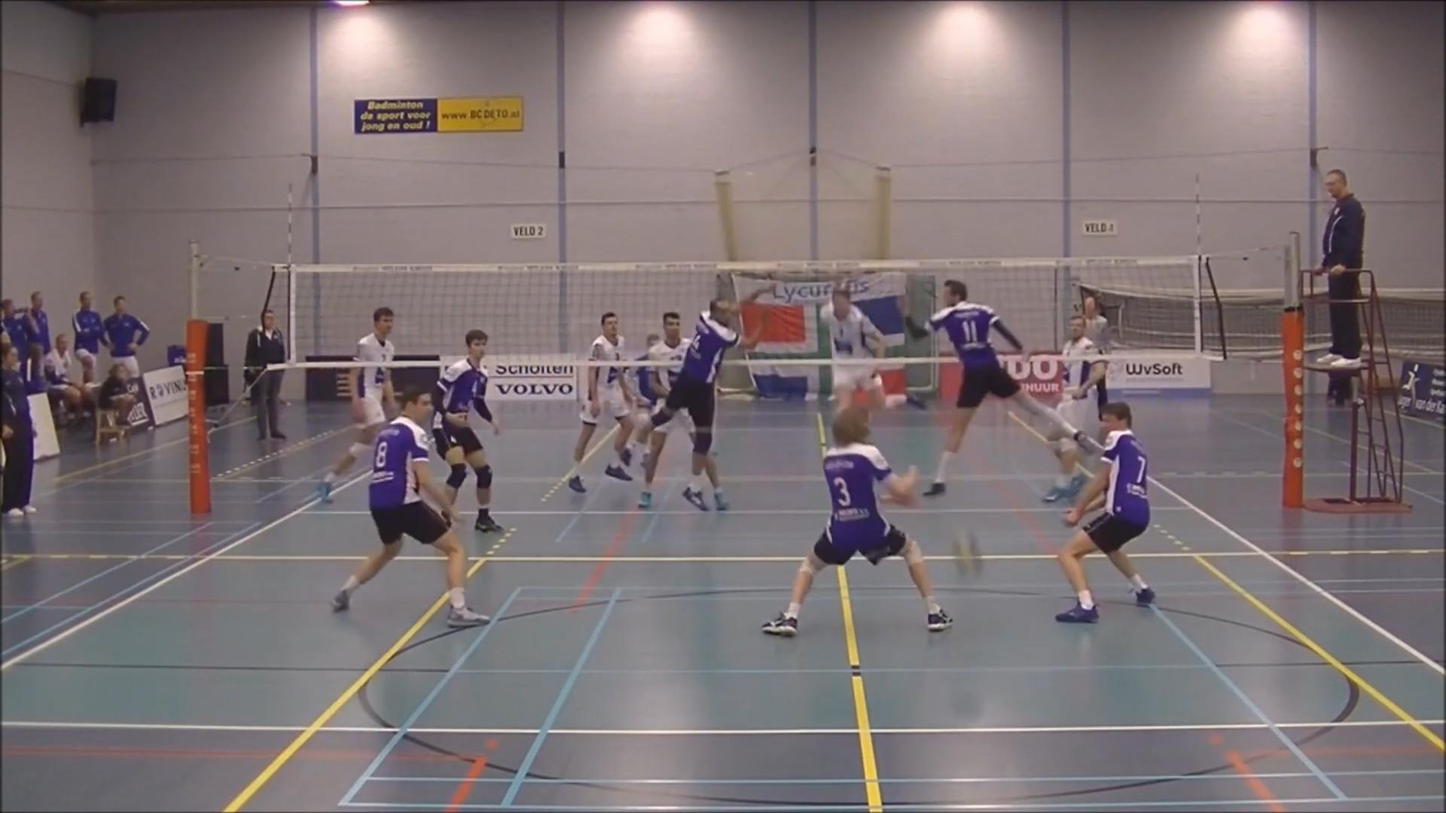Dig: (759, 404, 959, 639), (1058, 401, 1159, 628)
Player: (906, 280, 1094, 495), (332, 388, 488, 626), (637, 298, 765, 510), (318, 307, 395, 502), (432, 329, 502, 532), (568, 366, 634, 493), (822, 283, 886, 411), (1057, 315, 1106, 431), (638, 411, 694, 507), (628, 367, 657, 428)
